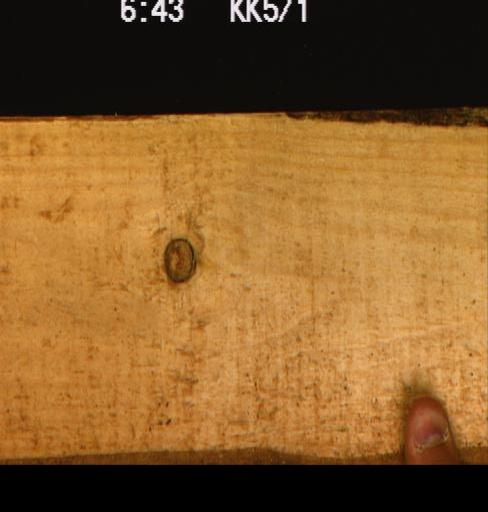dry_knot: (159, 235, 194, 284)
wave: (0, 105, 486, 124), (0, 444, 402, 463)
